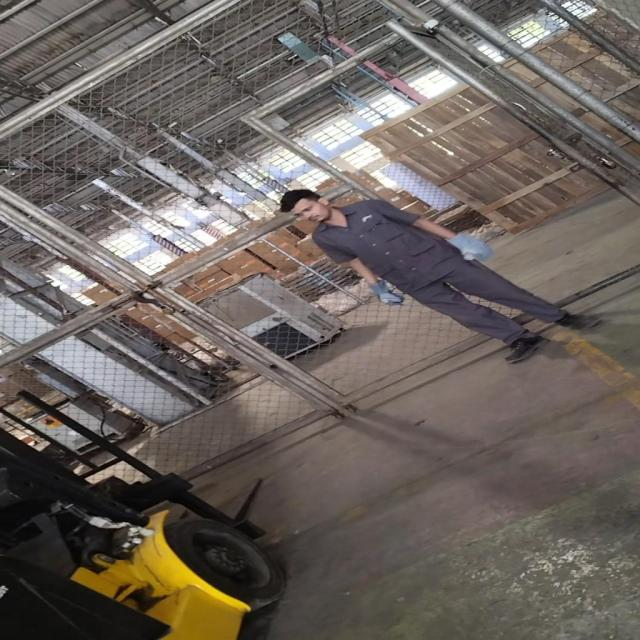Gloves-Detection: (442, 230, 491, 267), (363, 278, 402, 306)
